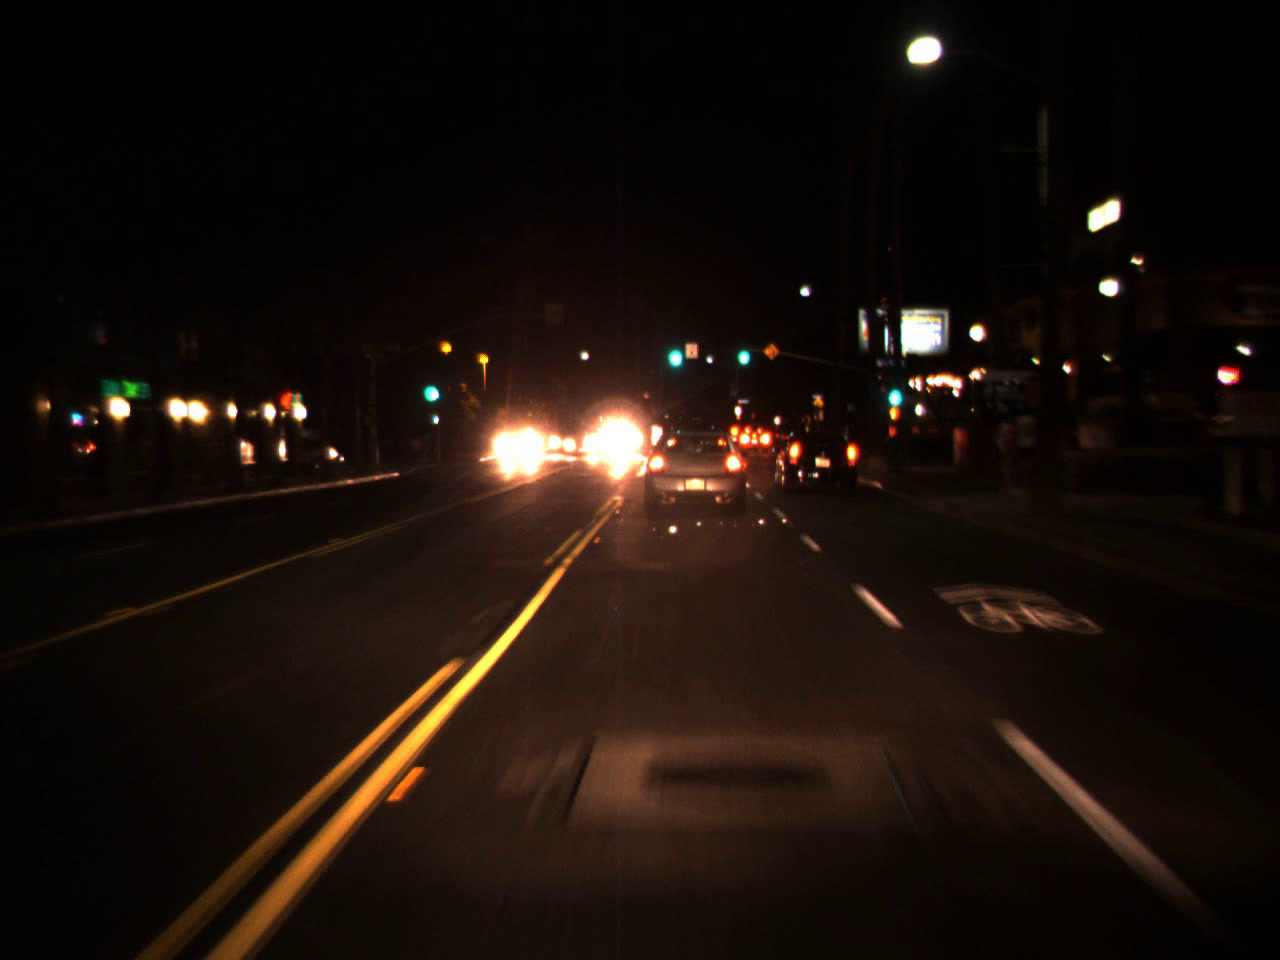go: (879, 365, 907, 413), (662, 328, 685, 373), (420, 366, 439, 408), (733, 334, 751, 370)
